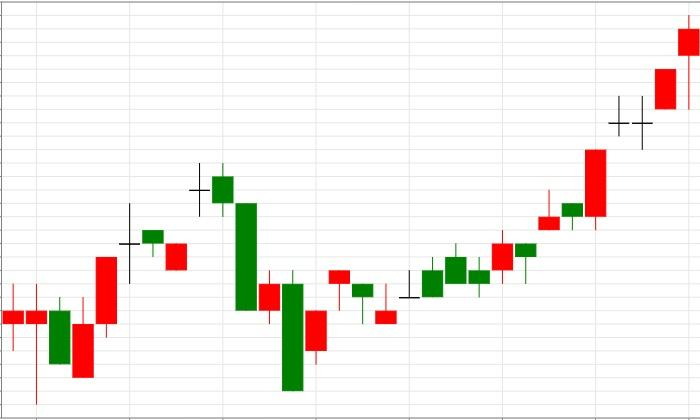hanging_man_fall: (585, 15, 700, 230)
